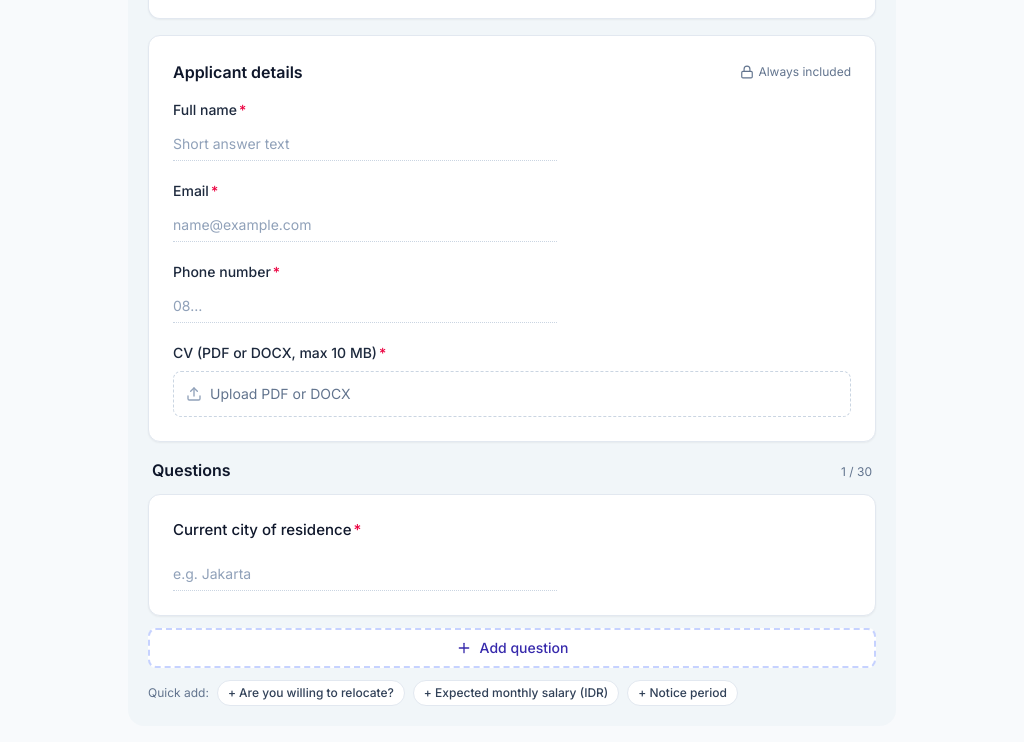
Test: FormBuilderPage › requires at least two options for a dropdown question
(page scrolled)
Click the button "Add question".
click(512, 648)  # box [148,628,876,668]
(page scrolled)
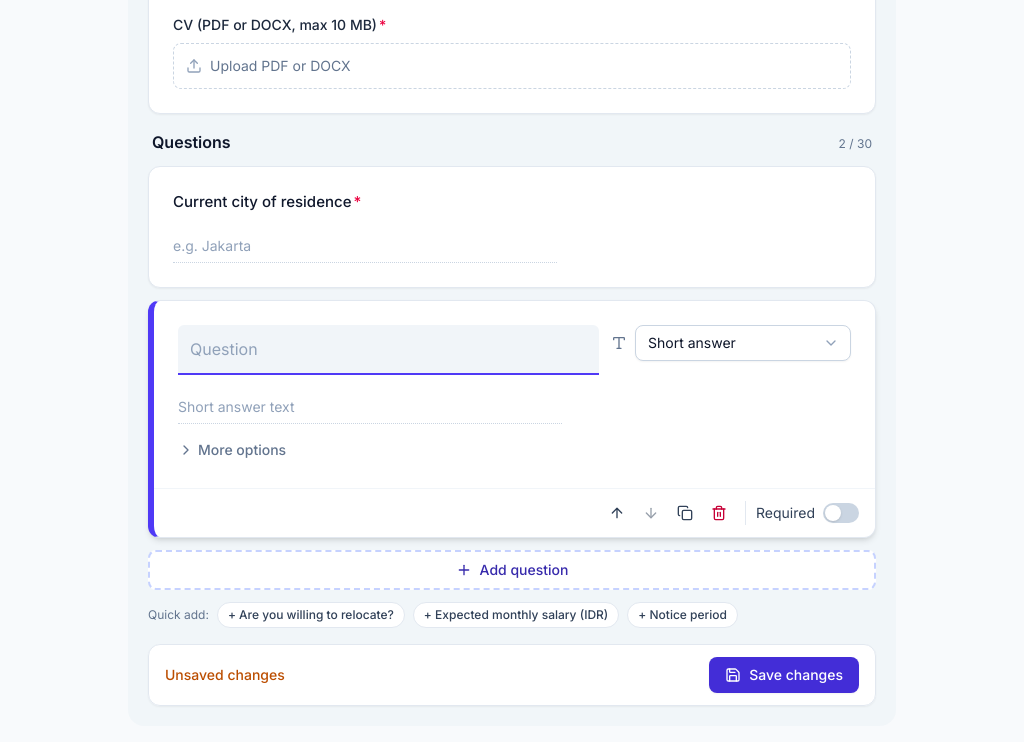
Type "Preferred work mode" into the field labelled "Question".
click(388, 350); type("Preferred work mode")  # box [178,324,599,374]
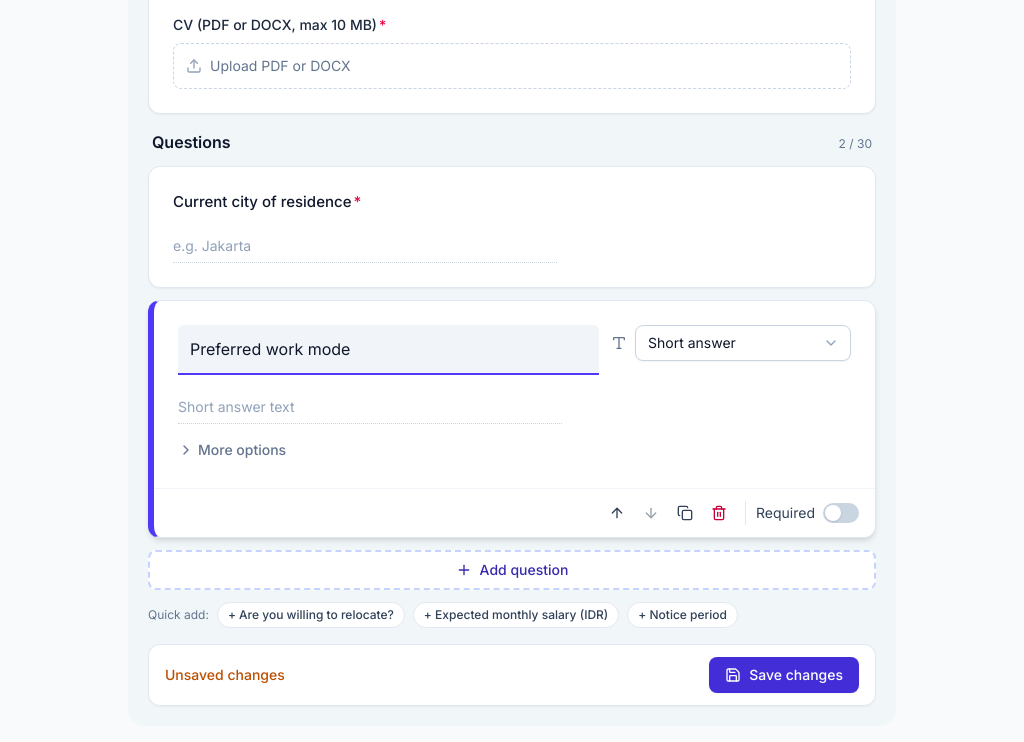
Select "Dropdown (one choice)" in the dropdown named "Answer type" at (743, 342), box [635,324,851,360]
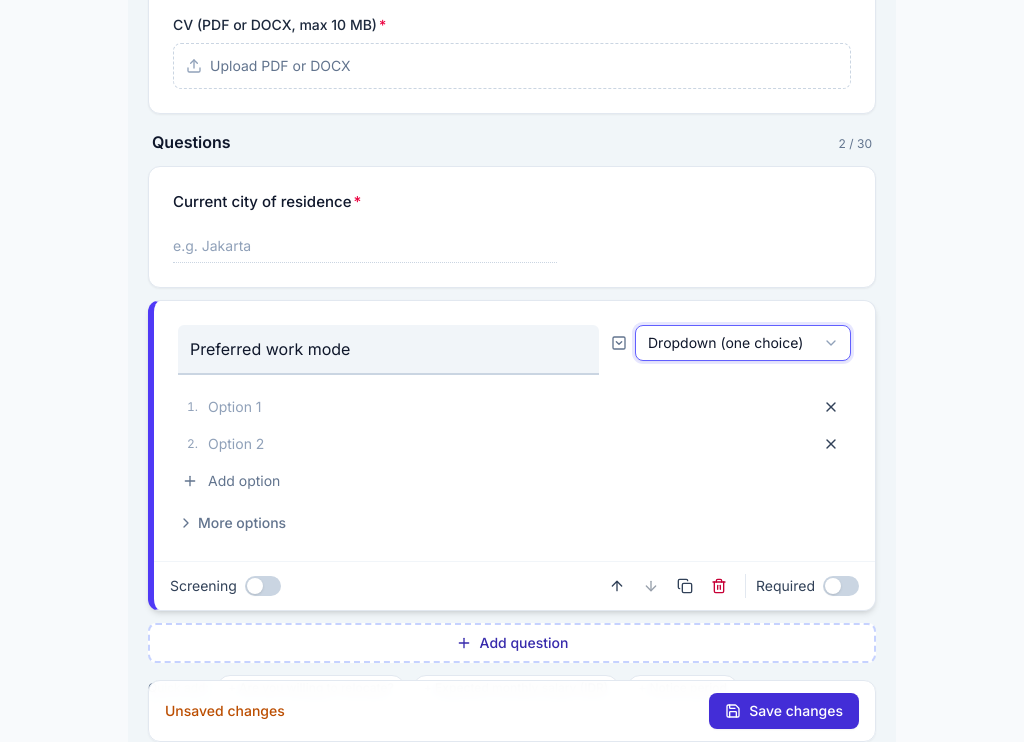
Type "Remote" into the field labelled "Option 1".
click(506, 407); type("Remote")  # box [208,390,805,424]
(page scrolled)
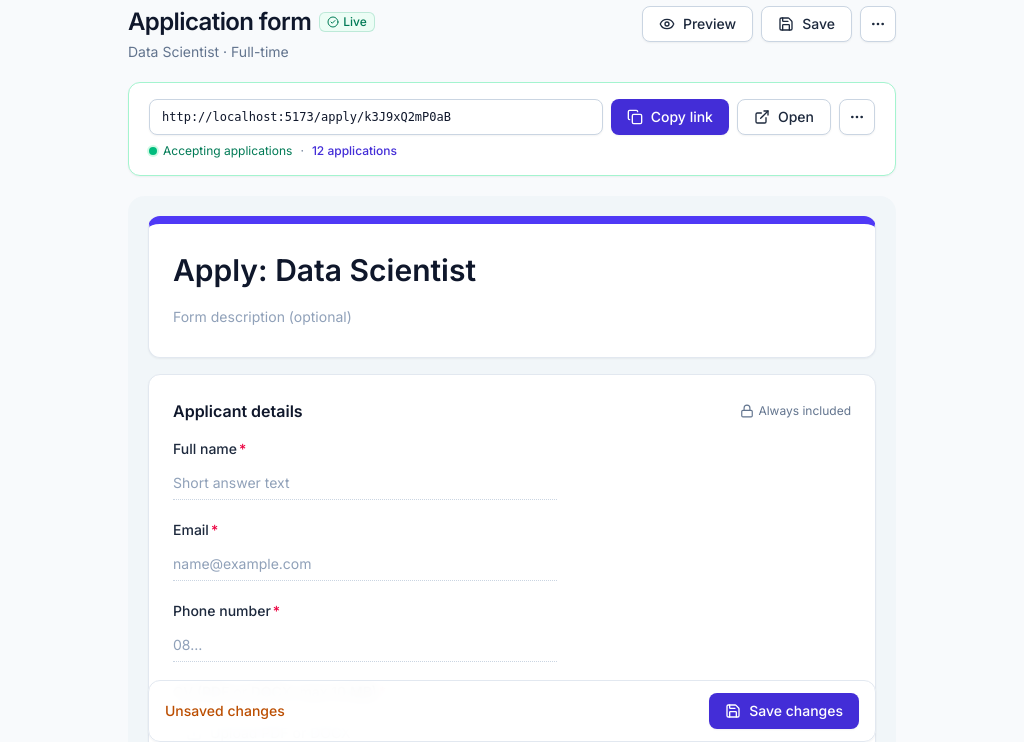
Click the button "Save".
click(807, 24)  # box [761,6,852,42]
(page scrolled)
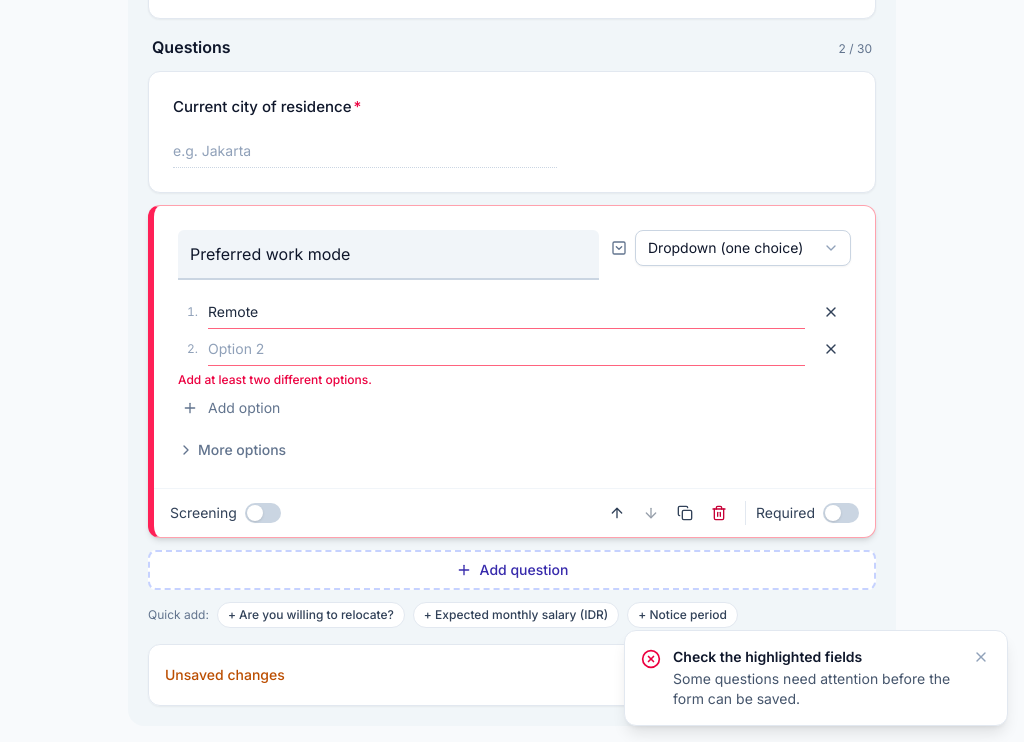
Result: the text "Add at least two different options." is shown at [178,372,372,386]
Type "Hybrid" into the field labelled "Option 2".
click(506, 349); type("Hybrid")  # box [208,332,805,366]
(page scrolled)
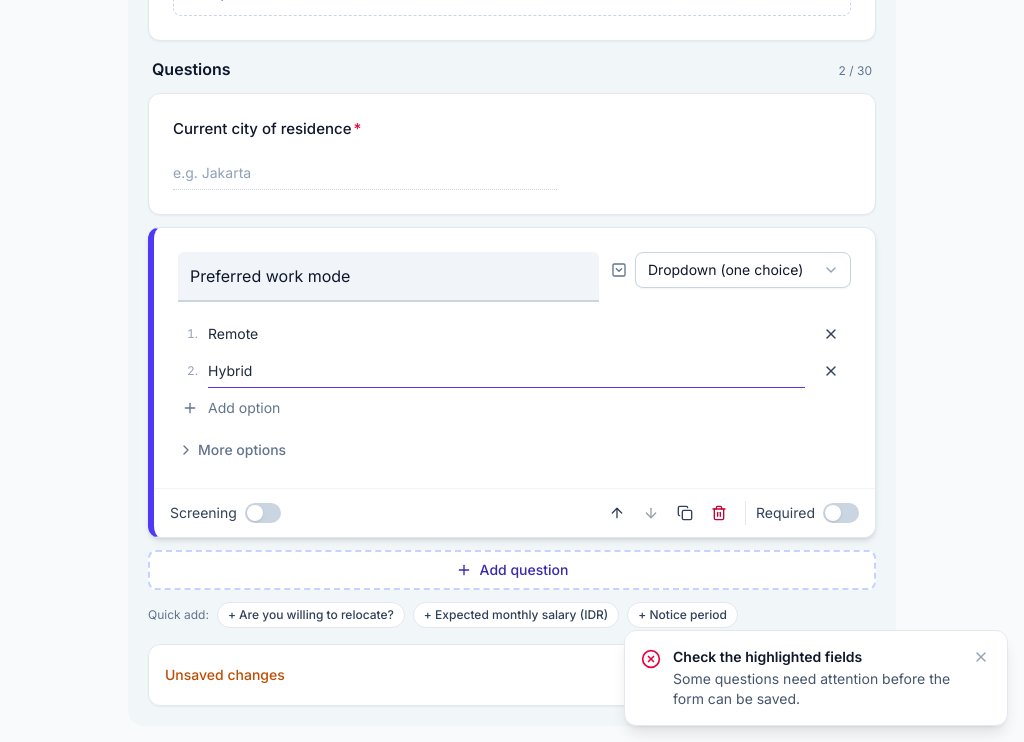
Result: the text "Add at least two different options." is gone
